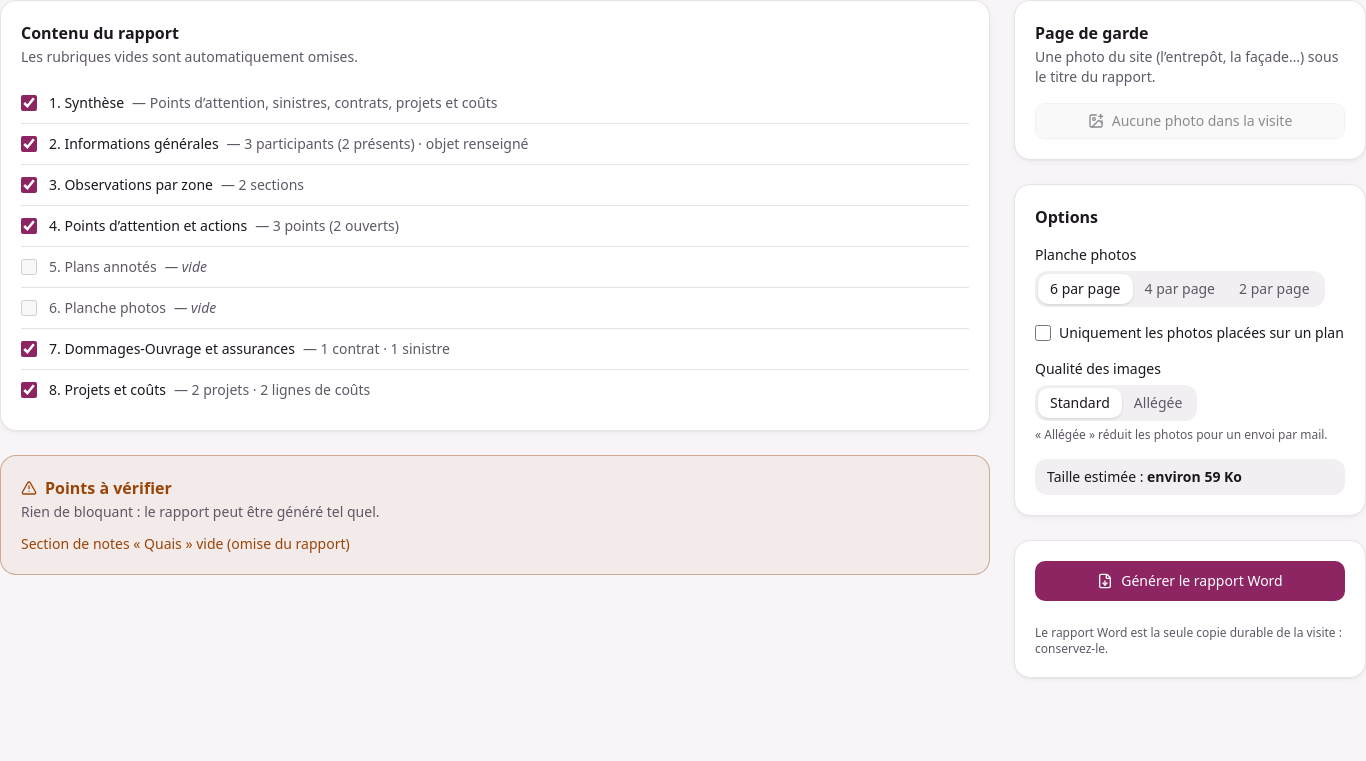
it: ReportTab › stops before generating when the pending changes cannot be saved
Click the button "Générer le rapport Word": (1190, 581) x1=1035 y1=561 x2=1345 y2=601
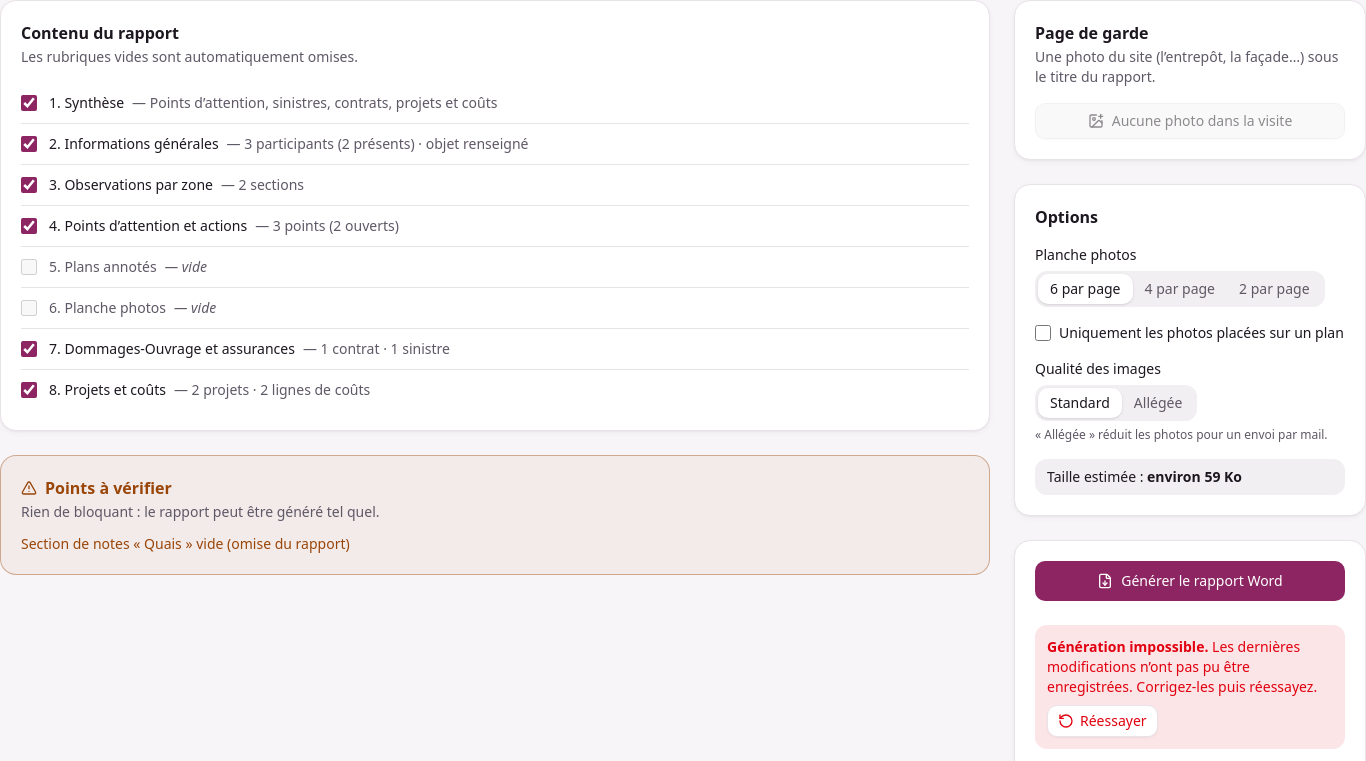
Expected: the message shows "Les dernières modifications n’ont pas pu être enregistrées", x1=1047 y1=637 x2=1317 y2=696
